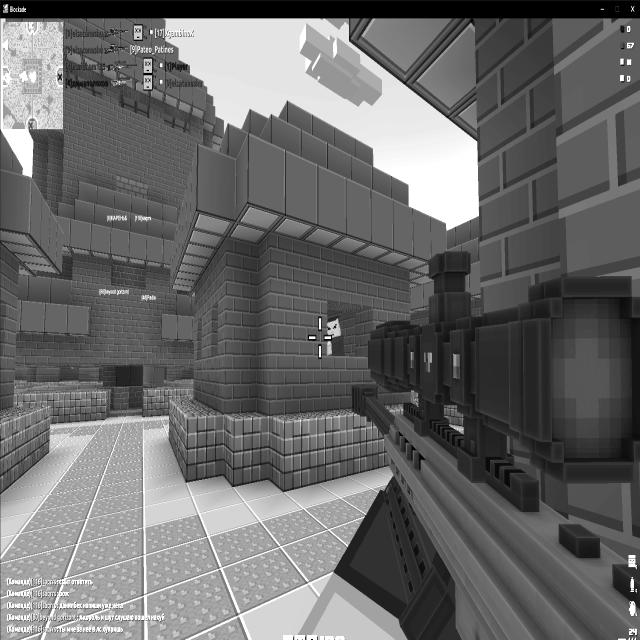Head: (324, 315, 342, 339)
Player: (299, 21, 382, 108), (323, 313, 346, 360)
